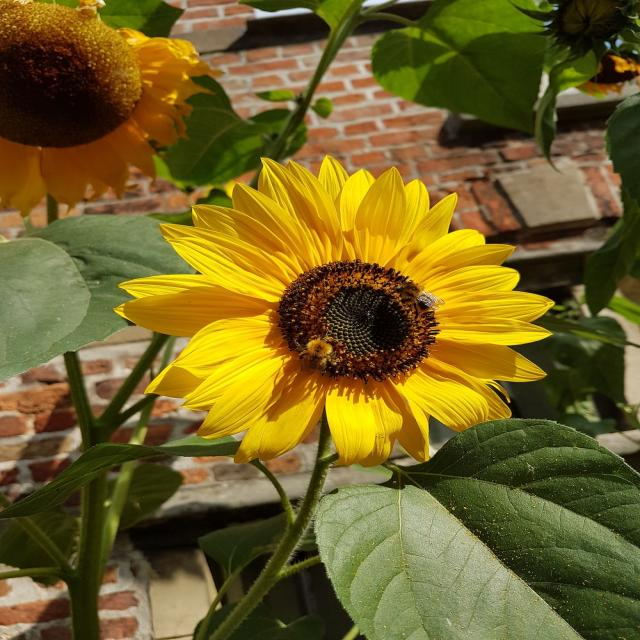sunflower: (119, 149, 566, 485), (0, 0, 227, 240)
